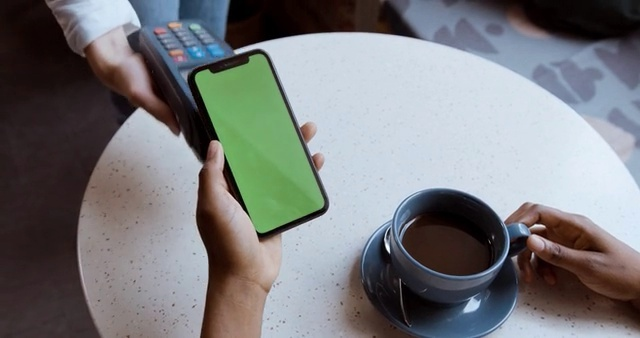phone: (185, 46, 332, 240)
